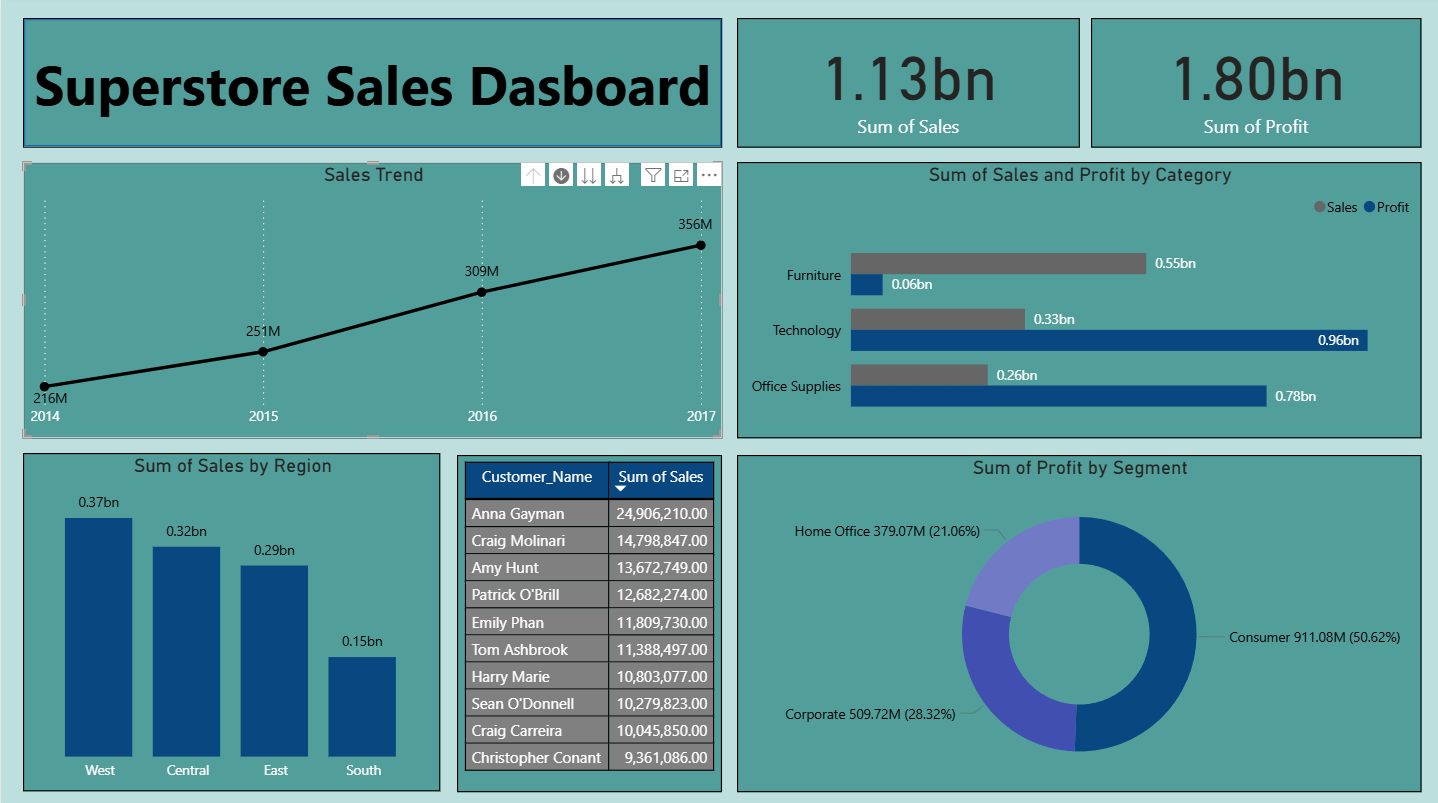

This screenshot's page, from the dashboard's own definition file:
{"tool":"powerbi","page":{"name":"Page 1","canvas":[1280,720],"ordinal":0},"visuals":[{"type":"card","fields":{"Values":["SuperstoreSales.Sales"]},"box":[652.7,19.3,304,114.6],"z":0},{"type":"card","fields":{"Values":["SuperstoreSales.Profit"]},"box":[966.4,19.3,293.2,114.6],"z":1000},{"type":"lineChart","title":"Sales Trend","fields":{"Y":["SuperstoreSales.Sales"],"Category":["SuperstoreSales.Order_Date.Variation.Date Hierarchy.Year","SuperstoreSales.Order_Date.Variation.Date Hierarchy.Month"]},"box":[19.3,147.2,620.1,244.9],"z":2000},{"type":"clusteredBarChart","title":"Sum of Sales and Profit by Category","fields":{"Y":["SuperstoreSales.Sales","SuperstoreSales.Profit"],"Category":["SuperstoreSales.Category"]},"box":[652.7,147.2,606.8,244.9],"z":3000},{"type":"columnChart","fields":{"Y":["SuperstoreSales.Sales"],"Category":["SuperstoreSales.Region"]},"box":[19.3,405.4,370.4,300.4],"z":4000},{"type":"tableEx","fields":{"Values":["SuperstoreSales.Customer_Name","SuperstoreSales.Sales"]},"box":[404.2,406.6,235.3,299.2],"z":5000},{"type":"donutChart","fields":{"Y":["SuperstoreSales.Profit"],"Category":["SuperstoreSales.Segment"]},"box":[653,407,607,299],"z":5001},{"type":"shape","box":[19.3,19.3,620.1,114.6],"z":5002}]}

Visuals, with their boxes in screenshot pixels (x1, y1, x2, y2), scaled from the page's 1280x720 canvas onto the 1438x803 screenshot:
card - SuperstoreSales.Sales: detection(733, 22, 1075, 149)
card - SuperstoreSales.Profit: detection(1086, 22, 1415, 149)
"Sales Trend" lineChart: detection(22, 164, 718, 437)
"Sum of Sales and Profit by Category" clusteredBarChart: detection(733, 164, 1415, 437)
columnChart - SuperstoreSales.Sales x SuperstoreSales.Region: detection(22, 452, 438, 787)
tableEx - SuperstoreSales.Customer_Name x SuperstoreSales.Sales: detection(454, 453, 718, 787)
donutChart - SuperstoreSales.Profit x SuperstoreSales.Segment: detection(734, 454, 1416, 787)
shape: detection(22, 22, 718, 149)
